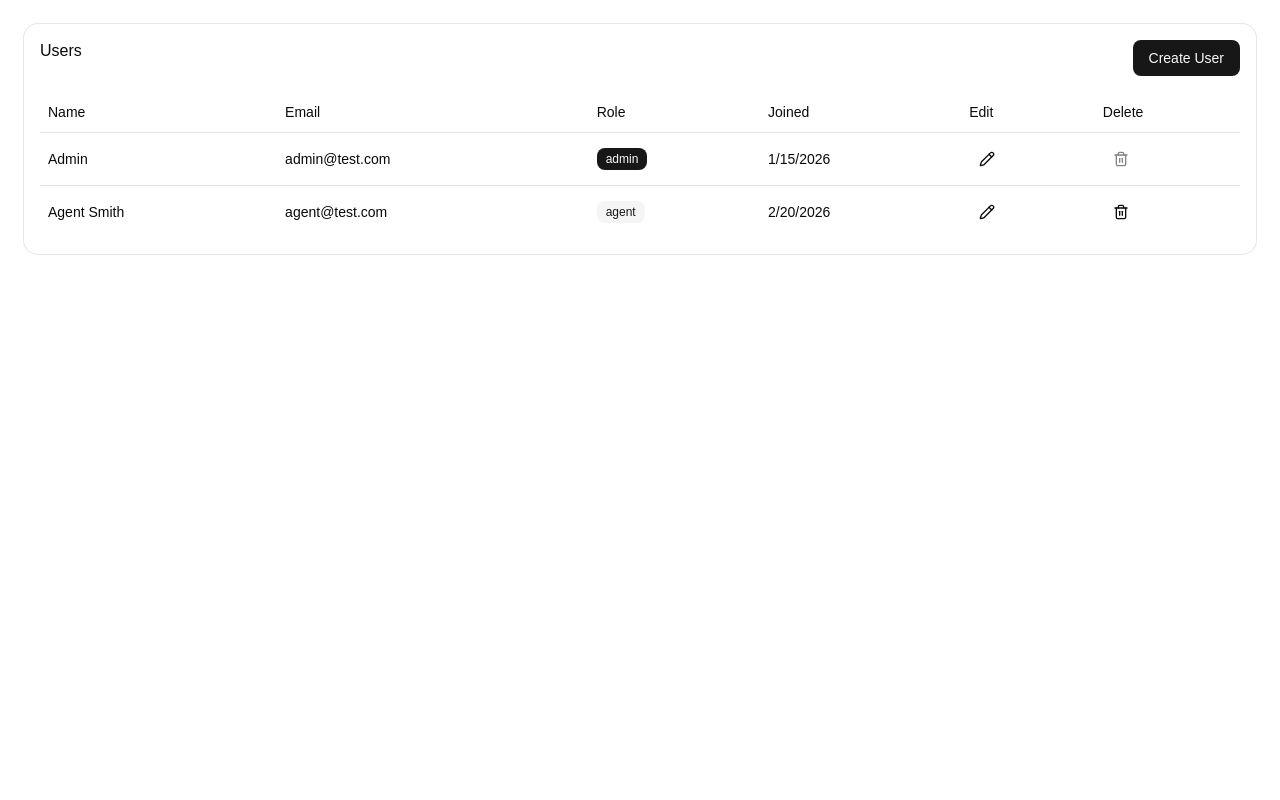
Scenario: UsersPage › removes a user from the list after deleting them
The width and height of the screenshot is (1280, 800).
Expected: the row "Agent Smith agent@test.com agent 2/20/2026" is shown, [40,185,1240,238]
Click the button named "Delete Agent Smith": click(1121, 212) [1103,194,1139,230]
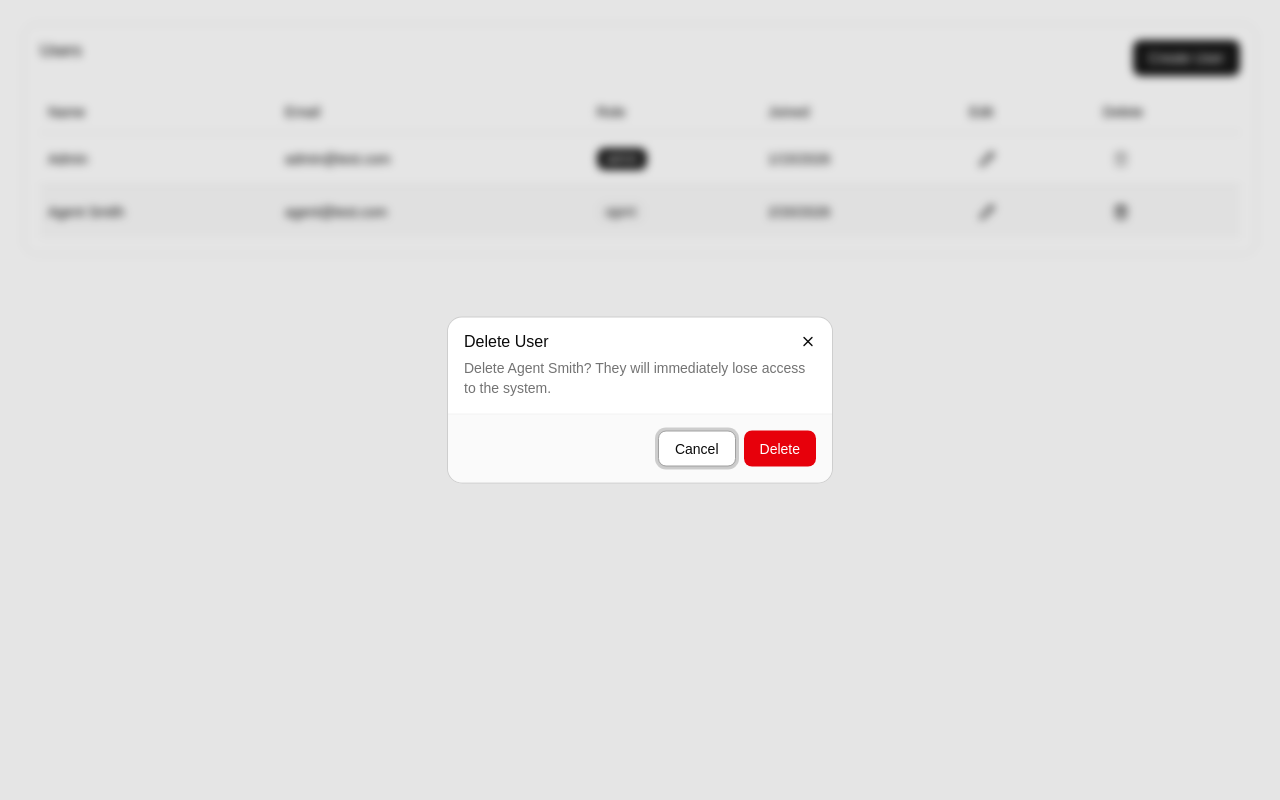
Click the button "Delete": click(780, 448) [744,430,816,466]
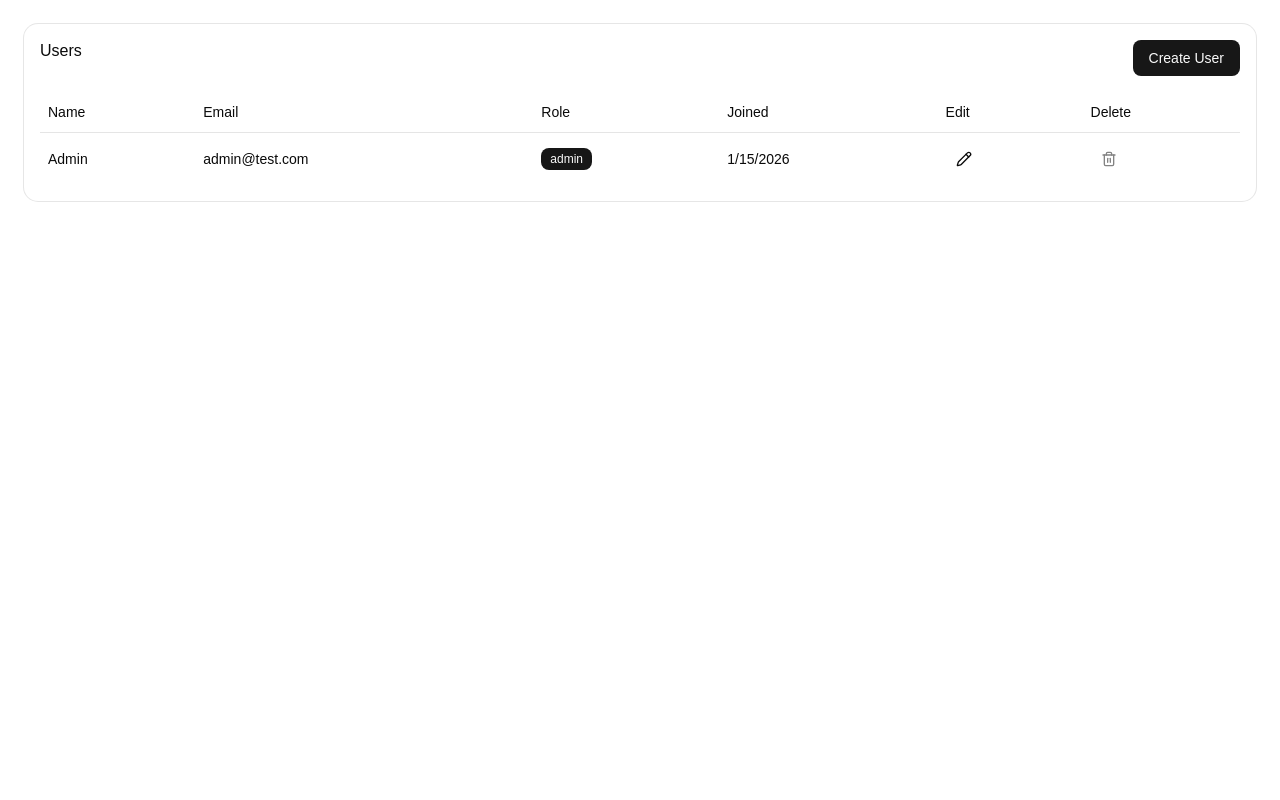
Expected: the cell "agent@test.com" is gone
